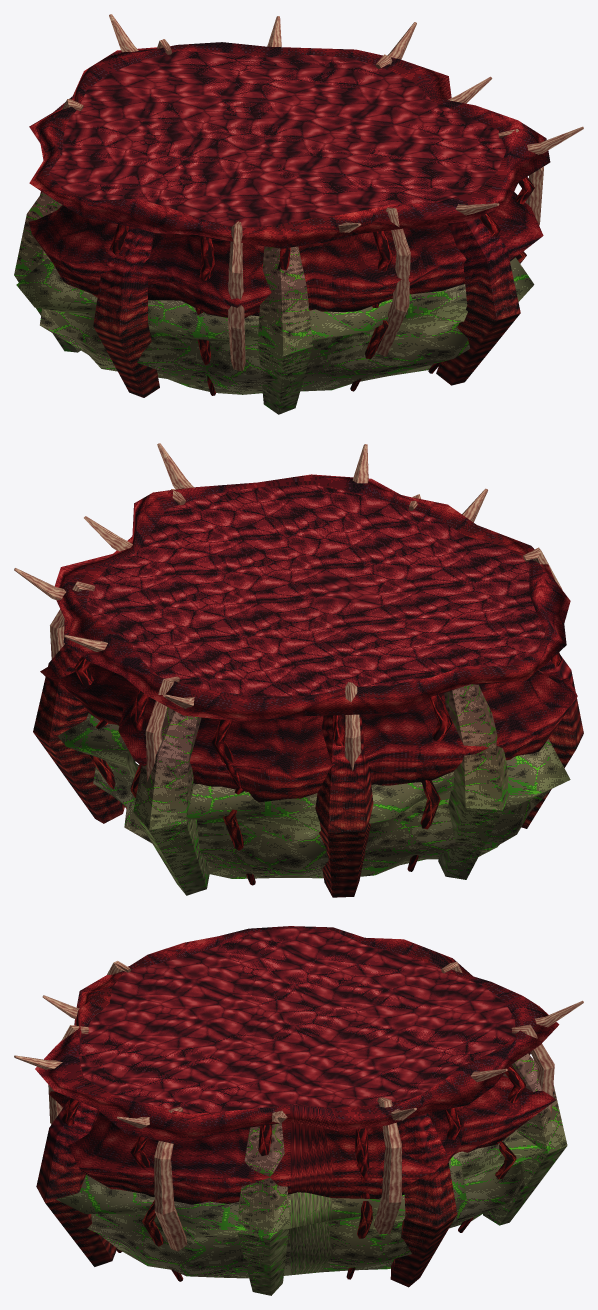
Rendered from Arena_East_TendonOverlook.glb.
The picture shows the model from 3 angles, top to bottom: view 1: azimuth 30°, elevation 25°; view 2: azimuth 150°, elevation 25°; view 3: azimuth 270°, elevation 25°; orthographic projection. The views are drawn at different scales.
Visible parts, largest first — view 1: EastOverlook_Deck, EastOverlook_CliffFlesh, EastOverlook_CliffCalcified, EastOverlook_CartilageSpurs, EastOverlook_SinewyRoots; view 2: EastOverlook_Deck, EastOverlook_CliffFlesh, EastOverlook_CliffCalcified, EastOverlook_CartilageSpurs, EastOverlook_SinewyRoots; view 3: EastOverlook_Deck, EastOverlook_CliffFlesh, EastOverlook_CliffCalcified, EastOverlook_CartilageSpurs, EastOverlook_SinewyRoots.
Part boxes in pixels (left/top/right/bottom): EastOverlook_Deck: left=49, top=51, right=506, bottom=228; EastOverlook_CliffFlesh: left=28, top=42, right=550, bottom=397; EastOverlook_CliffCalcified: left=14, top=192, right=534, bottom=414; EastOverlook_CartilageSpurs: left=62, top=14, right=583, bottom=371; EastOverlook_SinewyRoots: left=110, top=176, right=534, bottom=395; EastOverlook_Deck: left=86, top=485, right=545, bottom=696; EastOverlook_CliffFlesh: left=33, top=474, right=583, bottom=897; EastOverlook_CliffCalcified: left=58, top=684, right=570, bottom=895; EastOverlook_CartilageSpurs: left=14, top=443, right=562, bottom=781; EastOverlook_SinewyRoots: left=74, top=652, right=562, bottom=885; EastOverlook_Deck: left=78, top=927, right=516, bottom=1113; EastOverlook_CliffFlesh: left=35, top=926, right=559, bottom=1287; EastOverlook_CliffCalcified: left=56, top=1053, right=567, bottom=1295; EastOverlook_CartilageSpurs: left=14, top=961, right=583, bottom=1251; EastOverlook_SinewyRoots: left=62, top=1052, right=530, bottom=1281.
Bounding box in the file's own units: 22.91 × 10.16 × 24.56.
Materials: 5 (5 with a texture image).
